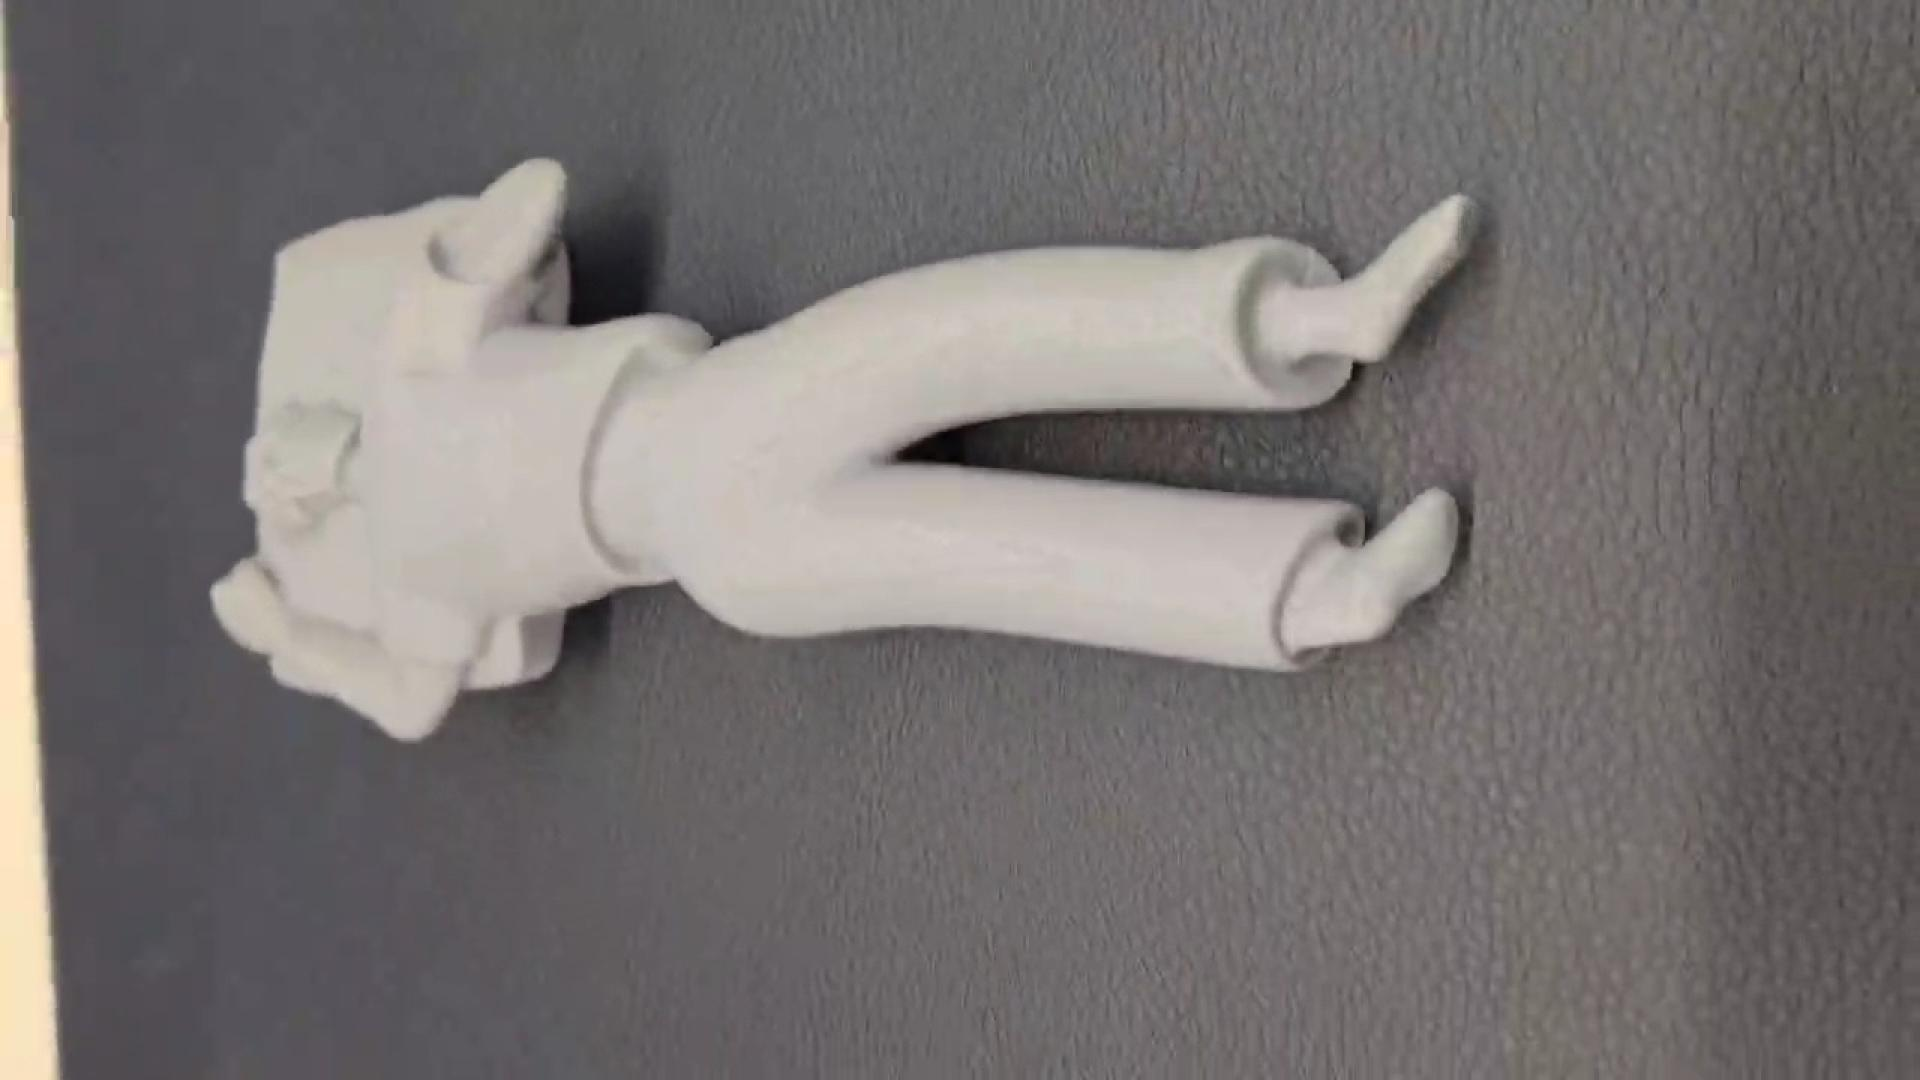Bad-style: (203, 150, 1493, 738)
